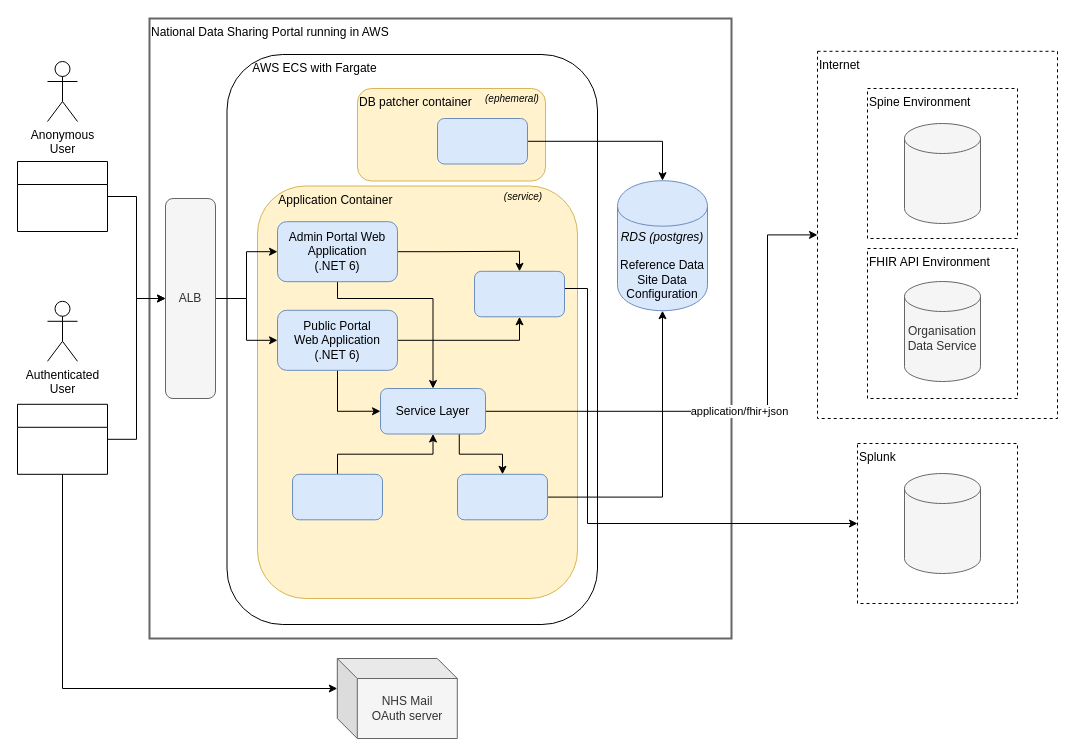
This 1075x756 diagram has some shape labels left out. Each missing label, with the centre of its shape:
Admin Portal: (x=62, y=438)
Data Access Layer: (x=502, y=496)
Download Function: (x=337, y=496)
Flyway + SQL files: (x=482, y=141)
Logging Index: (x=942, y=523)
Logging Middleware: (x=519, y=293)
Public Portal: (x=62, y=196)
Spine Directory Service: (x=942, y=173)
